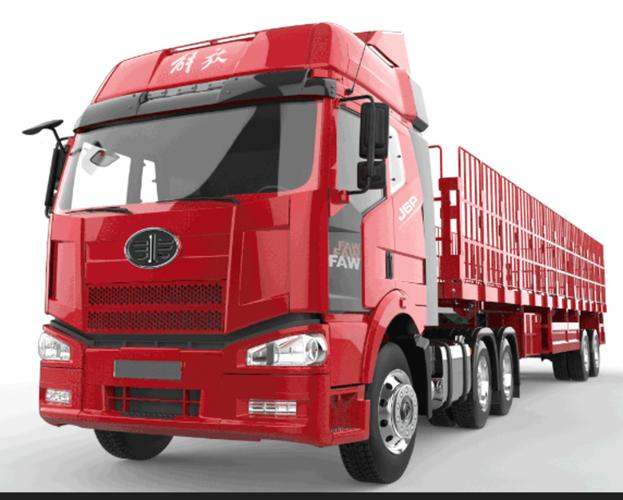卡车: (13, 11, 623, 485)
